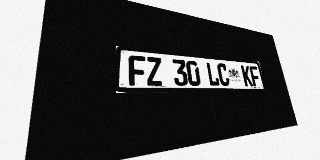0: (185, 60, 201, 86)
3: (172, 59, 188, 86)
C: (216, 63, 230, 86)
F: (128, 55, 146, 86), (249, 66, 261, 86)
K: (240, 65, 253, 86)
L: (205, 62, 220, 86)
Z: (146, 56, 163, 86)
